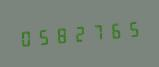eight: (53, 22, 70, 47)
five: (35, 23, 52, 49), (125, 16, 142, 41)
seven: (89, 19, 106, 44)
six: (107, 17, 124, 43)
two: (71, 20, 88, 46)
zero: (17, 25, 34, 50)
